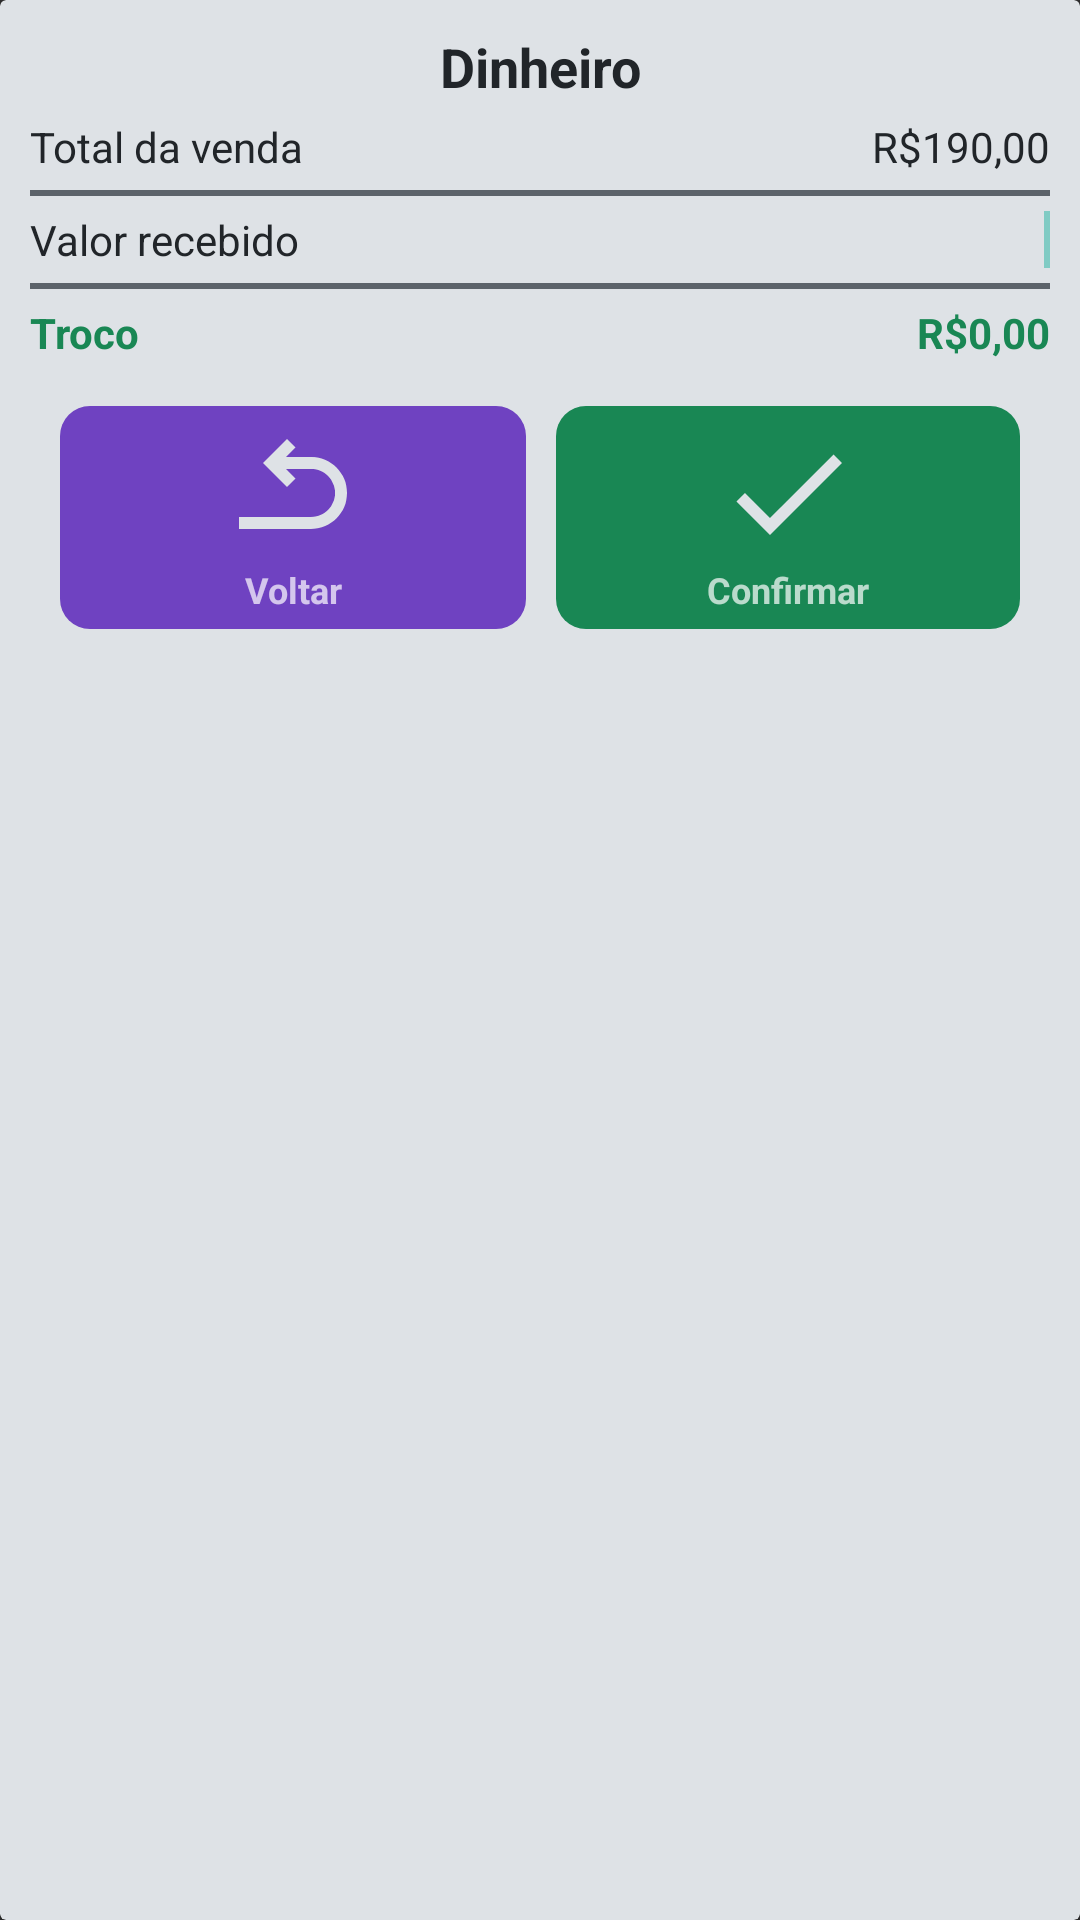

Icon bounding boxes for this 1080px x 1920px phone screenshot, format (x1, y1, x2, y2):
check: (736, 454, 842, 535)
